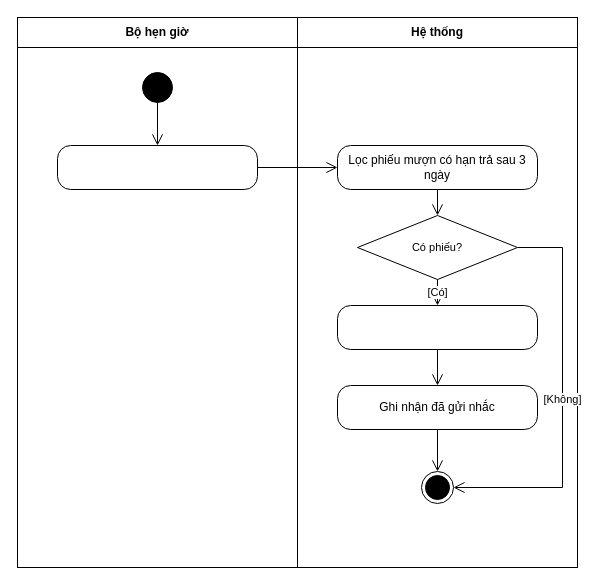
Image size: 599x585. Some labels were removed from this diagram. The shapes that lost their labels are listed below. From the top down, each one's centre as x and y in pixels, then its label:
At [157,167]: "Kích hoạt tác vụ định kỳ mỗi ngày".
At [437,327]: "Soạn và gửi email nhắc hạn trả cho từng độc giả".
